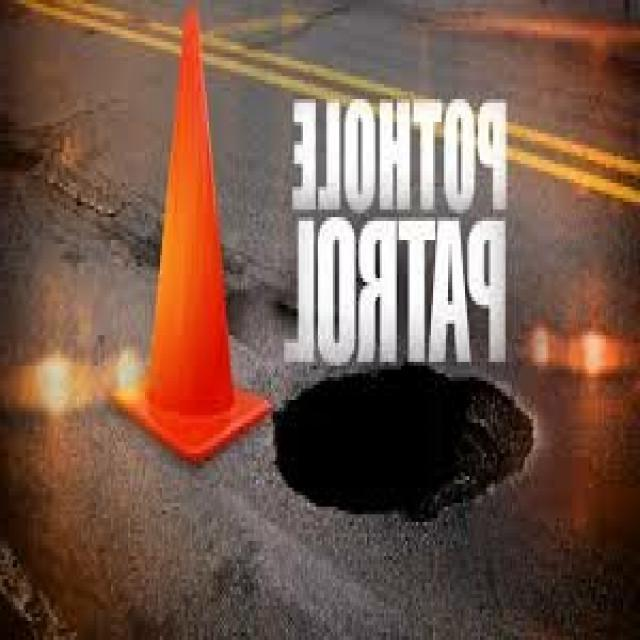pothole: (250, 358, 611, 560)
